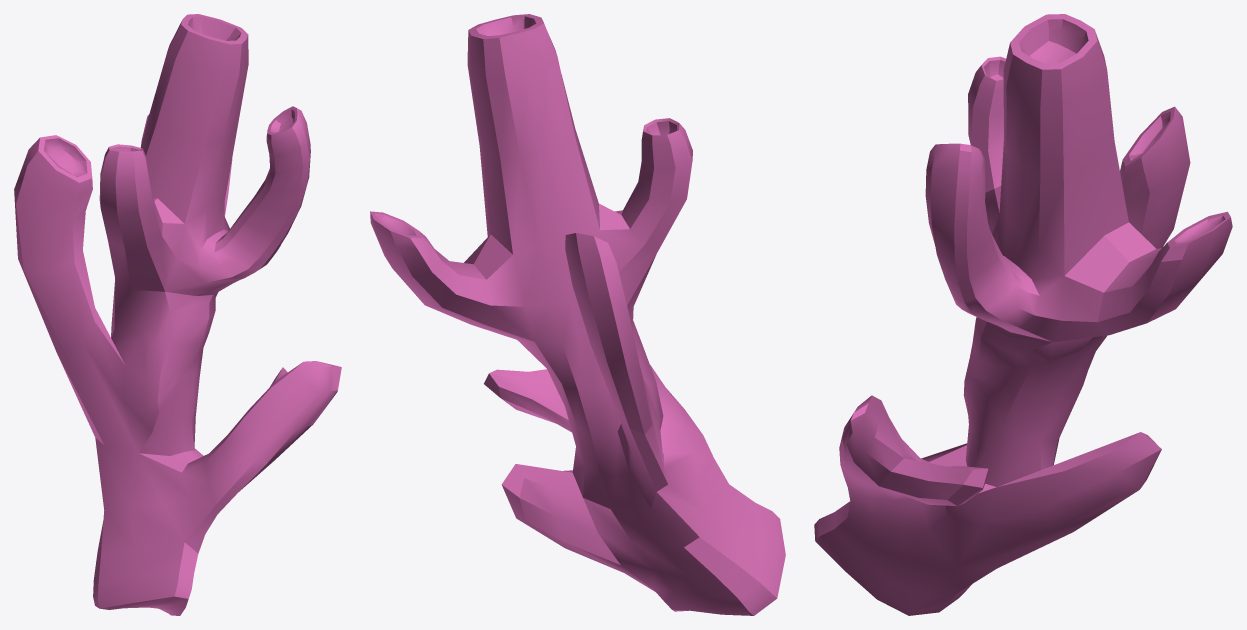
File: coral left.fbx
3 renders of one model, left to right at view 1: azimuth 30°, elevation 25°; view 2: azimuth 150°, elevation 25°; view 3: azimuth 270°, elevation 25°, orthographic. The views are drawn at different scales.
Parts seen in each view (by area): view 1: coral 2.003; view 2: coral 2.003; view 3: coral 2.003.
Boxes of the visible parts, x1,y1,x2,y2 form: coral 2.003: [14, 14, 341, 615]; coral 2.003: [370, 14, 785, 615]; coral 2.003: [814, 14, 1232, 615].
Bounding box in the file's own units: 397 × 837 × 492.
